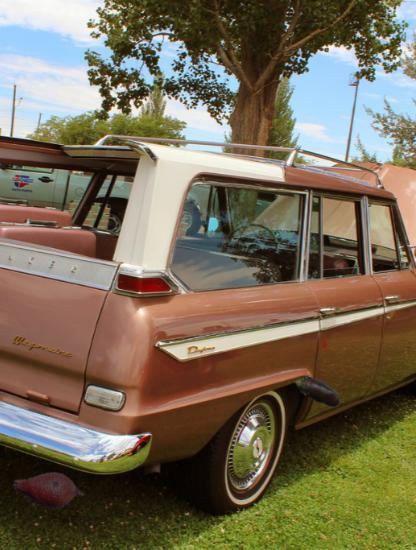Eggplant: (292, 365, 344, 417)
Salak: (13, 454, 85, 526)
